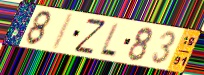3: (151, 30, 178, 66)
8: (24, 10, 53, 48), (127, 26, 155, 63)
I: (49, 12, 76, 52)
L: (97, 21, 121, 59)
Z: (72, 17, 108, 55)
